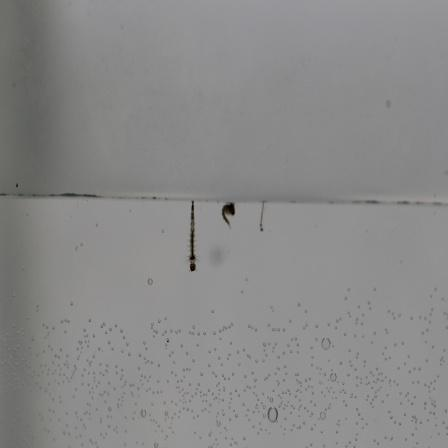Jentik-Nyamuk: (184, 197, 202, 276), (215, 198, 240, 230), (253, 198, 270, 235)
